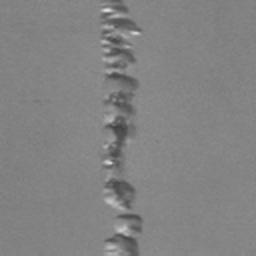Slag inclusion: (104, 72, 138, 172), (102, 30, 136, 69), (105, 179, 136, 209), (105, 234, 139, 256), (101, 13, 141, 31), (117, 214, 143, 233), (109, 0, 128, 13)
